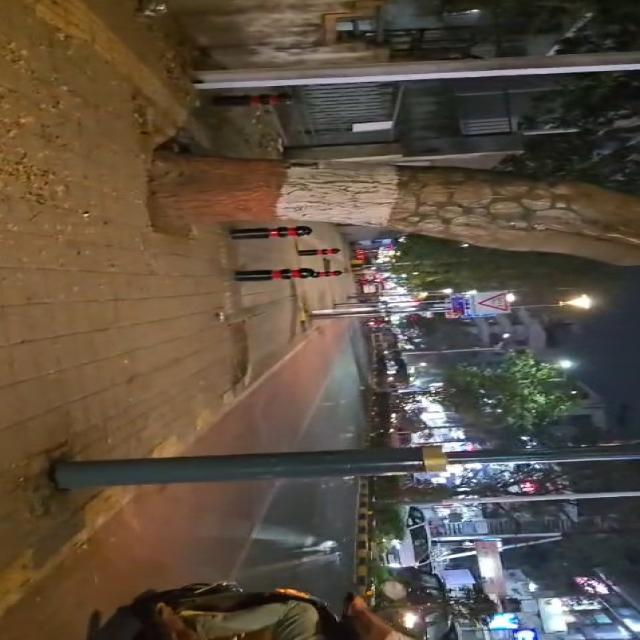obstacle: (50, 445, 639, 489), (51, 445, 639, 488), (51, 446, 447, 489), (53, 445, 447, 488), (195, 52, 639, 89), (432, 491, 639, 505), (311, 304, 445, 319), (432, 532, 562, 542), (229, 226, 313, 239), (404, 345, 503, 356), (212, 93, 291, 106), (235, 269, 317, 281), (501, 536, 562, 551), (298, 249, 340, 255), (315, 271, 342, 277)
